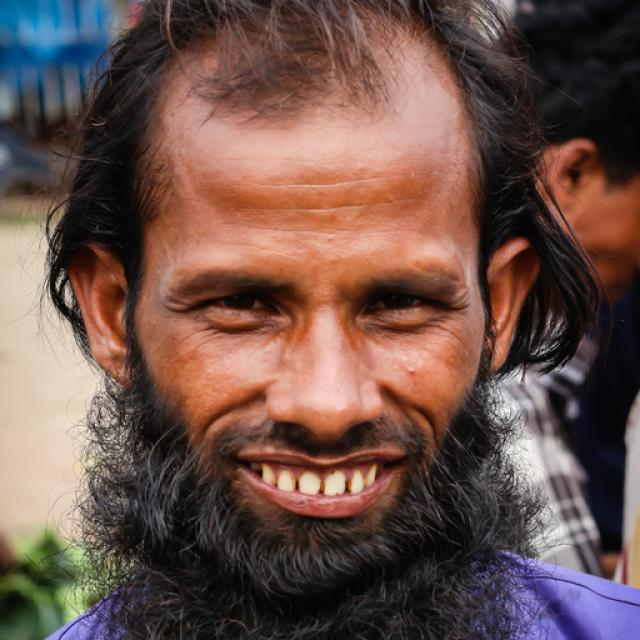Acne: (398, 361, 426, 380)
Wrinkle: (232, 193, 431, 217), (225, 220, 431, 240), (236, 169, 397, 188), (209, 233, 297, 259)
